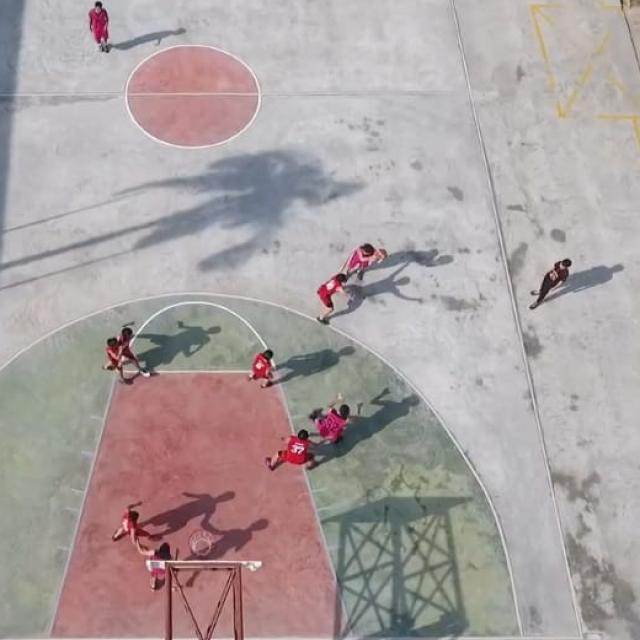humans: (260, 425, 323, 477), (526, 252, 576, 314), (110, 498, 162, 547), (138, 532, 180, 590), (308, 399, 358, 447), (312, 272, 350, 329), (118, 324, 158, 378), (339, 240, 382, 290), (102, 336, 140, 383), (85, 0, 115, 59), (245, 346, 280, 391)
